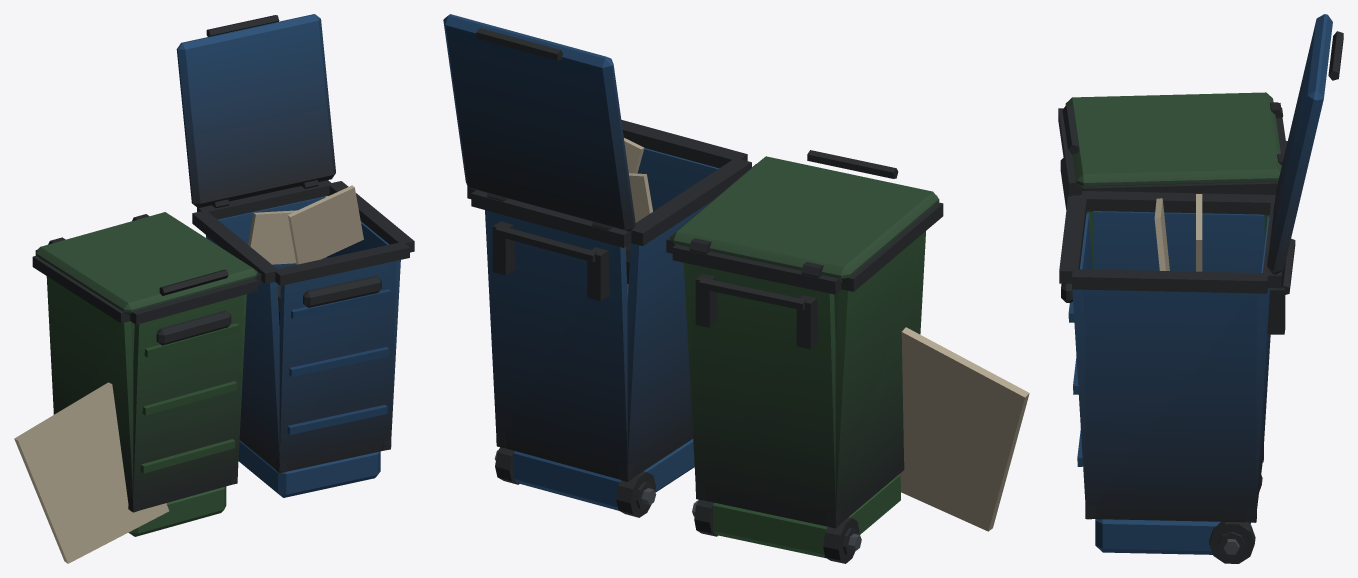
The model's file is wheelie_bins.glb.
The picture shows the model from 3 angles, left to right: view 1: azimuth 30°, elevation 25°; view 2: azimuth 150°, elevation 25°; view 3: azimuth 270°, elevation 25°; orthographic projection. The views are drawn at different scales.
Visible parts, largest first — view 1: wheelie_bins; view 2: wheelie_bins; view 3: wheelie_bins.
Boxes of the visible parts, x1,y1,x2,y2 form: wheelie_bins: [14, 14, 414, 563]; wheelie_bins: [443, 14, 1029, 563]; wheelie_bins: [1058, 14, 1343, 563].
Size of the model in its own units: 1.78 by 1.75 by 0.9333.
